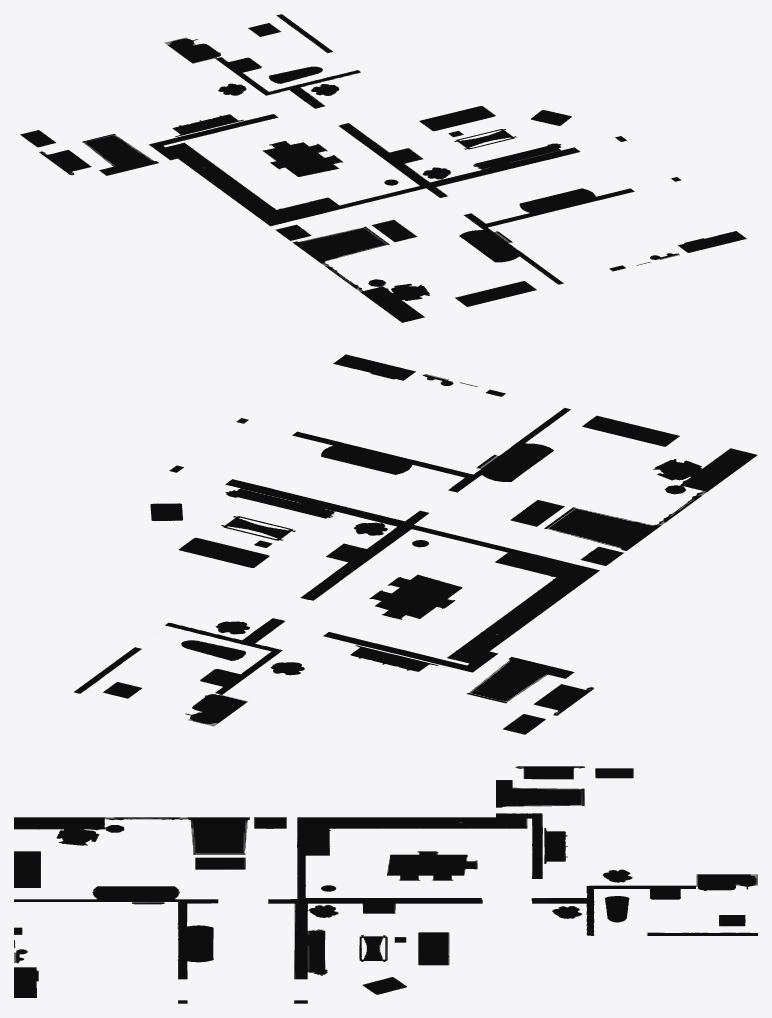
Rendered from ShadowCatcherCasaSustentavel.fbx.
3 views of the same model, one above another, from view 1: azimuth 30°, elevation 25°; view 2: azimuth 150°, elevation 25°; view 3: azimuth 270°, elevation 25° (orthographic). The views are drawn at different scales.
Parts seen in each view (by area): view 1: Ground.001; view 2: Ground.001; view 3: Ground.001.
Boxes of the visible parts, x1=… form: Ground.001: x1=20, y1=14, x2=746, y2=322; Ground.001: x1=74, y1=354, x2=757, y2=734; Ground.001: x1=14, y1=766, x2=757, y2=1003.
Size of the model in its own units: 4128 by 0.1689 by 5465.
1 material, 1 textured.
